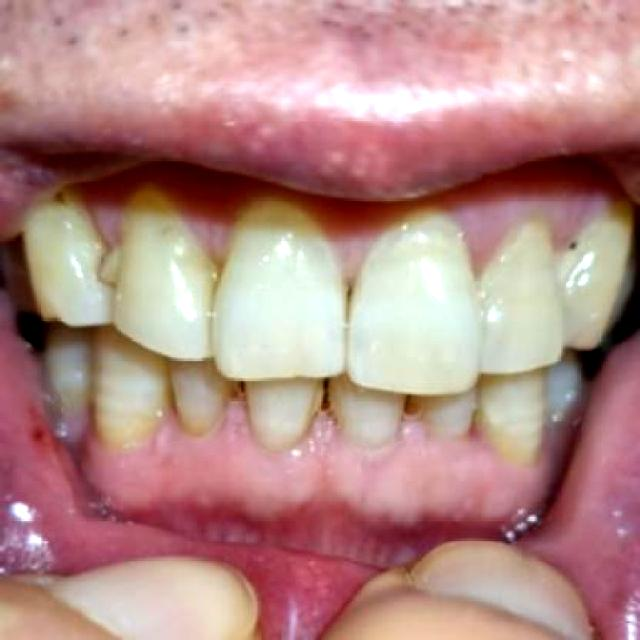Plaque: (41, 184, 80, 218), (565, 235, 586, 257)
